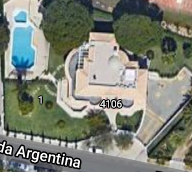pool: (14, 12, 35, 68)
